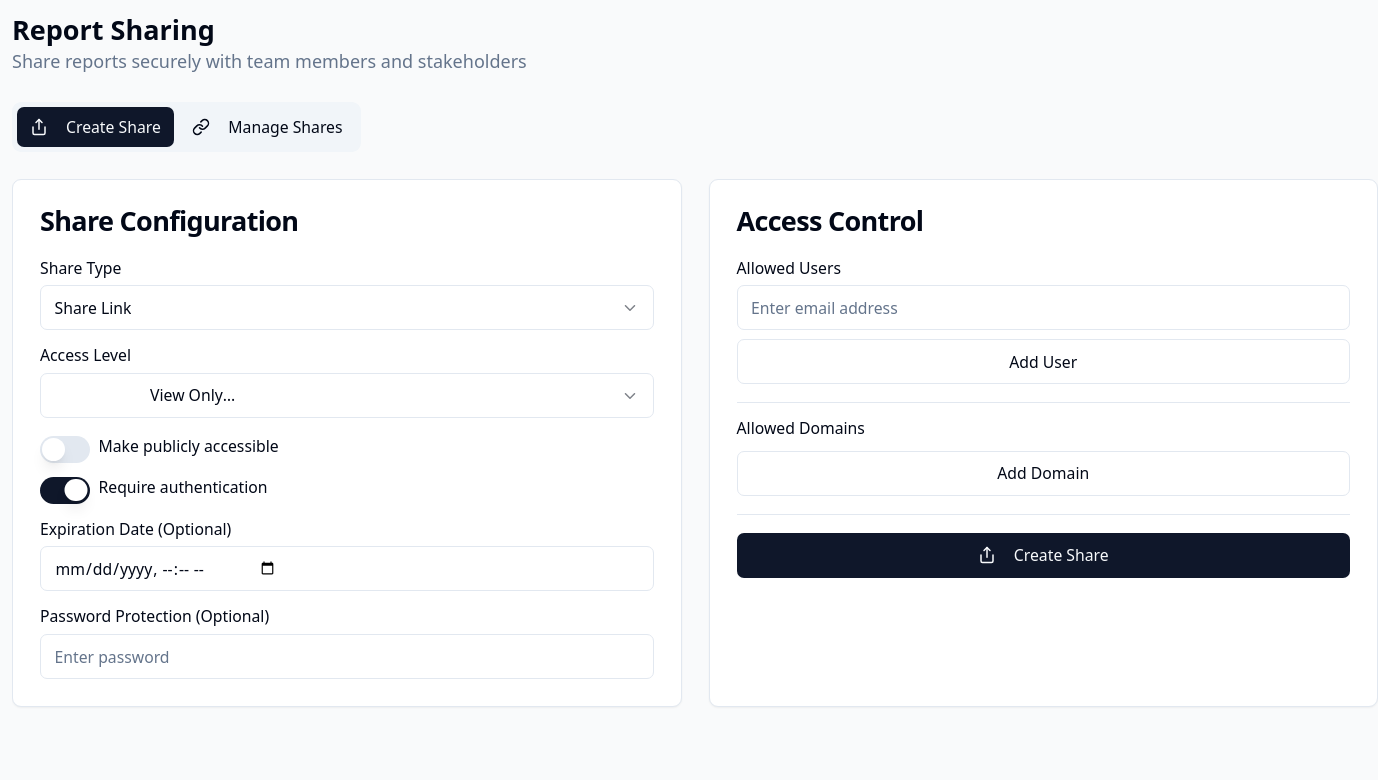
Test: ReportSharing › allows adding and removing allowed domains
Note: Add domain
Click the button "Add Domain" at coordinates (1043, 473), box [736,450,1350,496]
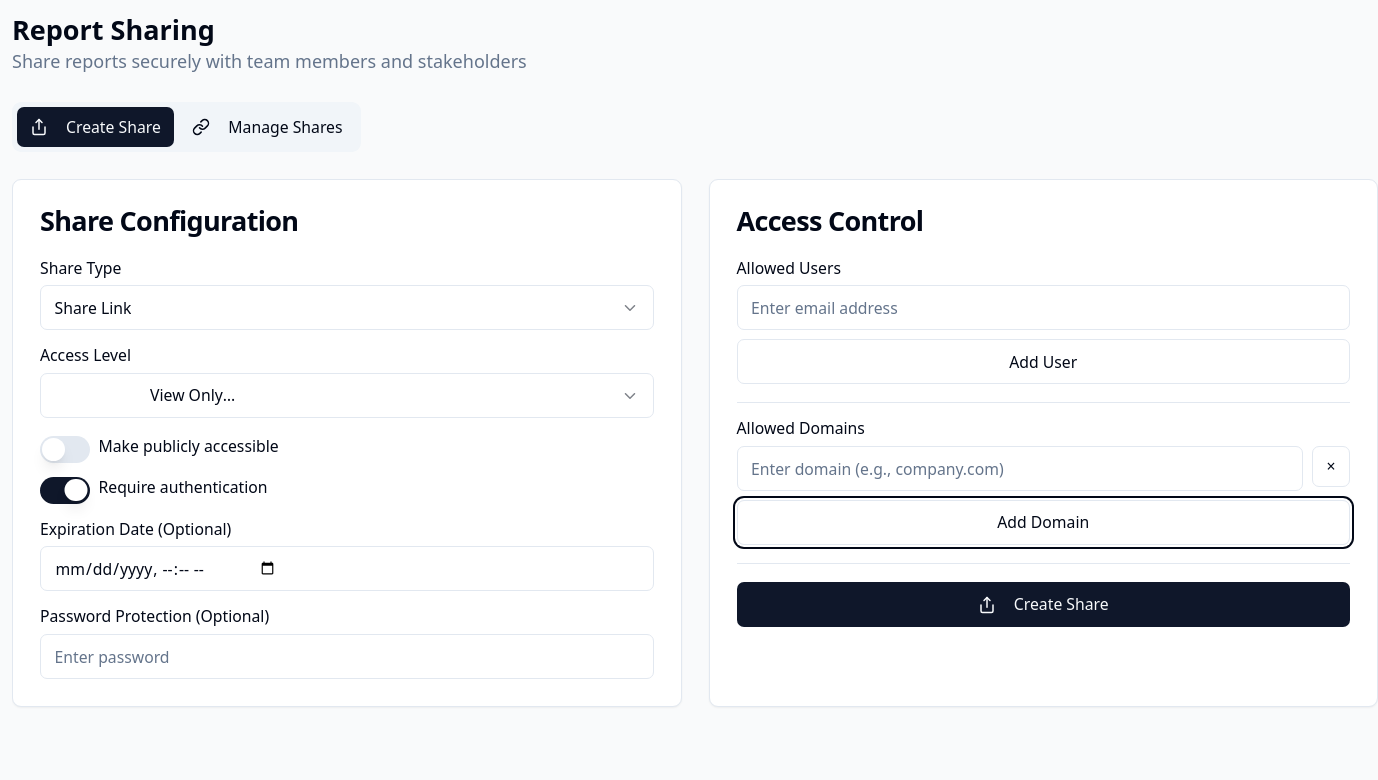
Type "example.com" into the field with placeholder "Enter domain (e.g., company.com)" at coordinates (1020, 468), box [736,446,1303,491]
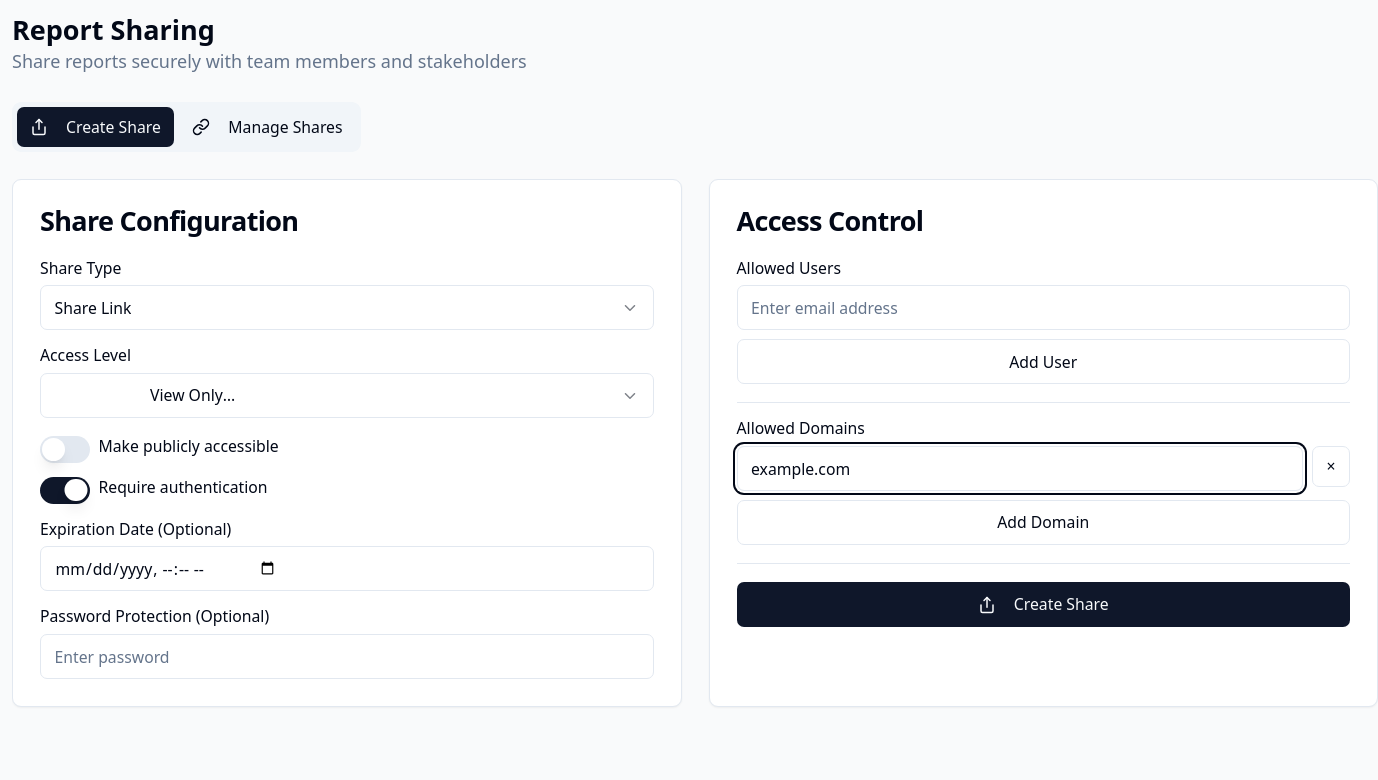
Note: Add another domain
Click the button "Add Domain" at coordinates (1043, 522), box [736,500,1350,545]
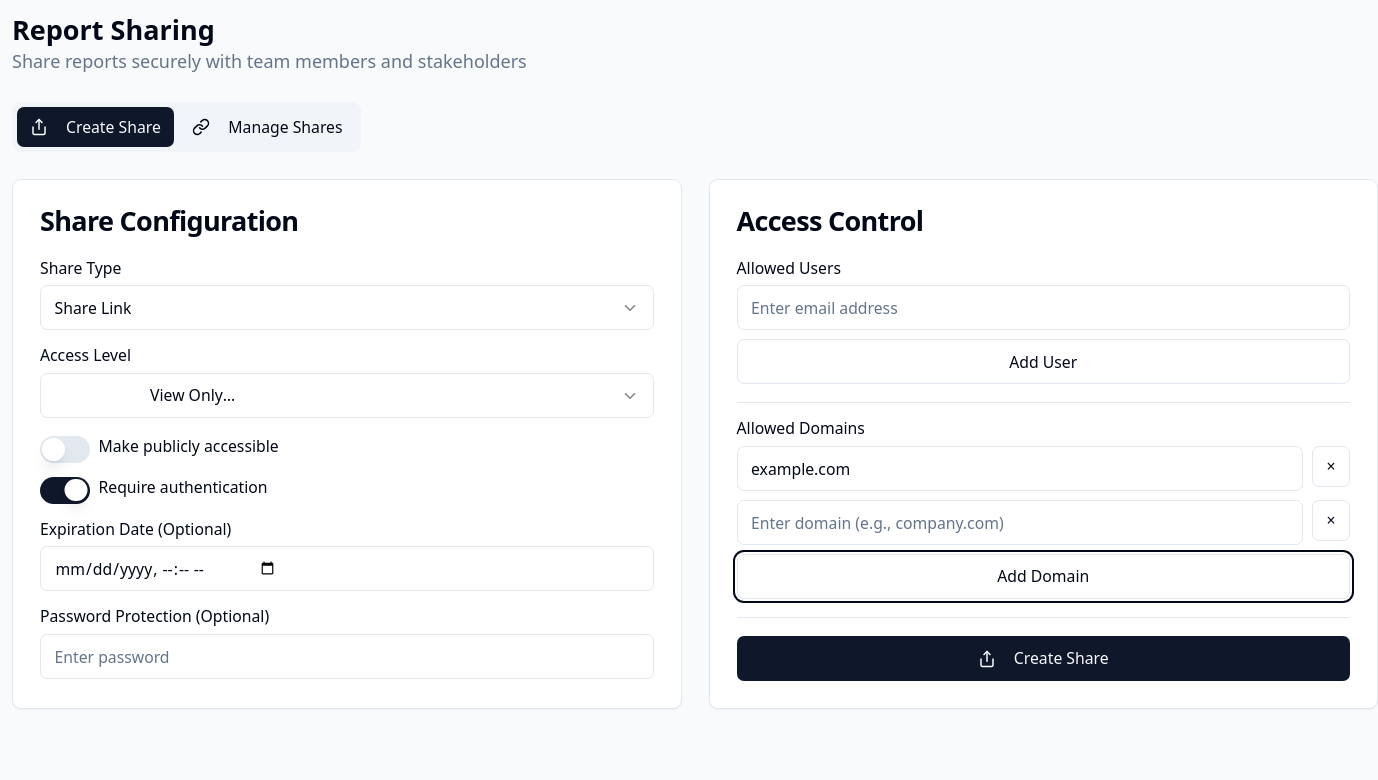
Expected: the number of fields with placeholder "Enter domain (e.g., company.com)" is 2, [736,446,1303,491]; [736,500,1303,545]
Note: Remove a domain
Click the 2nd button "×" at coordinates (1331, 520), box [1312,500,1350,540]
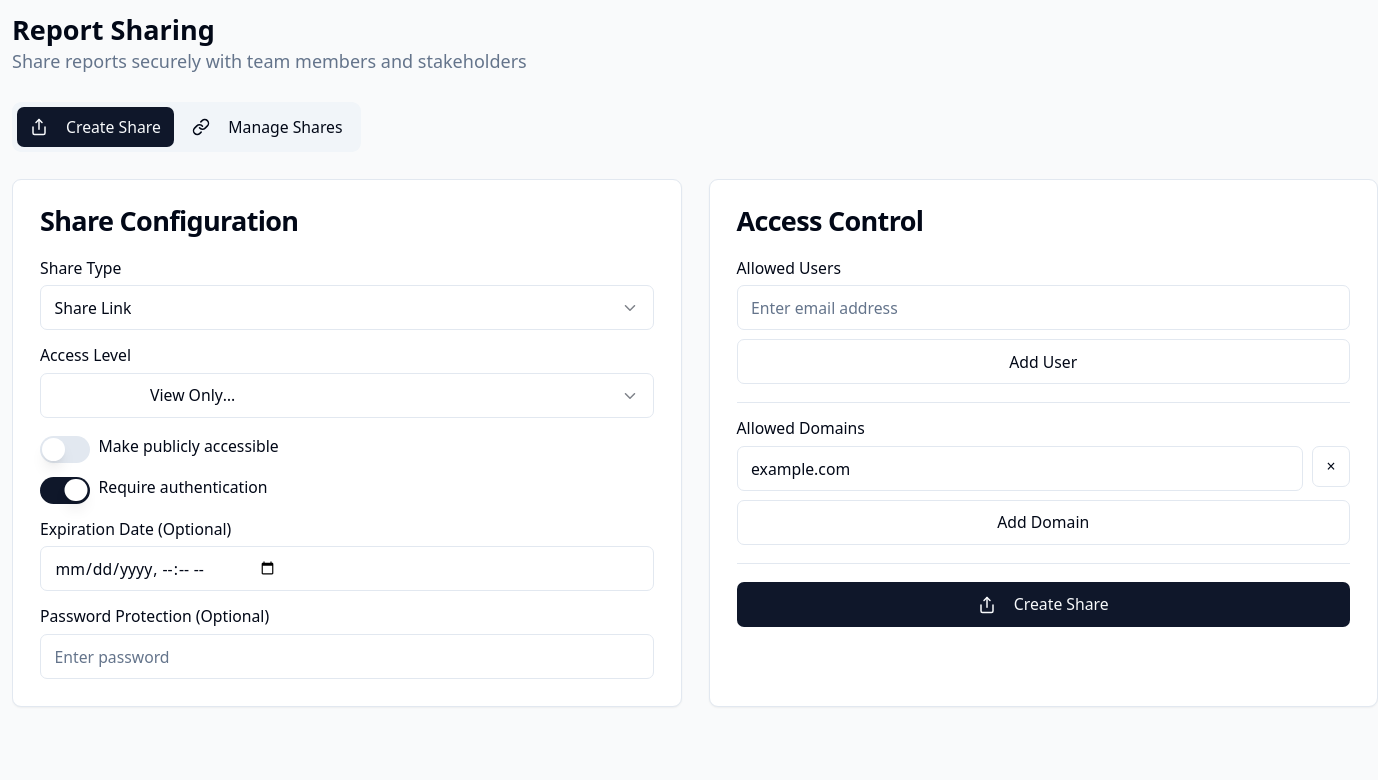
Expected: the number of fields with placeholder "Enter domain (e.g., company.com)" is 1, [736,446,1303,491]
